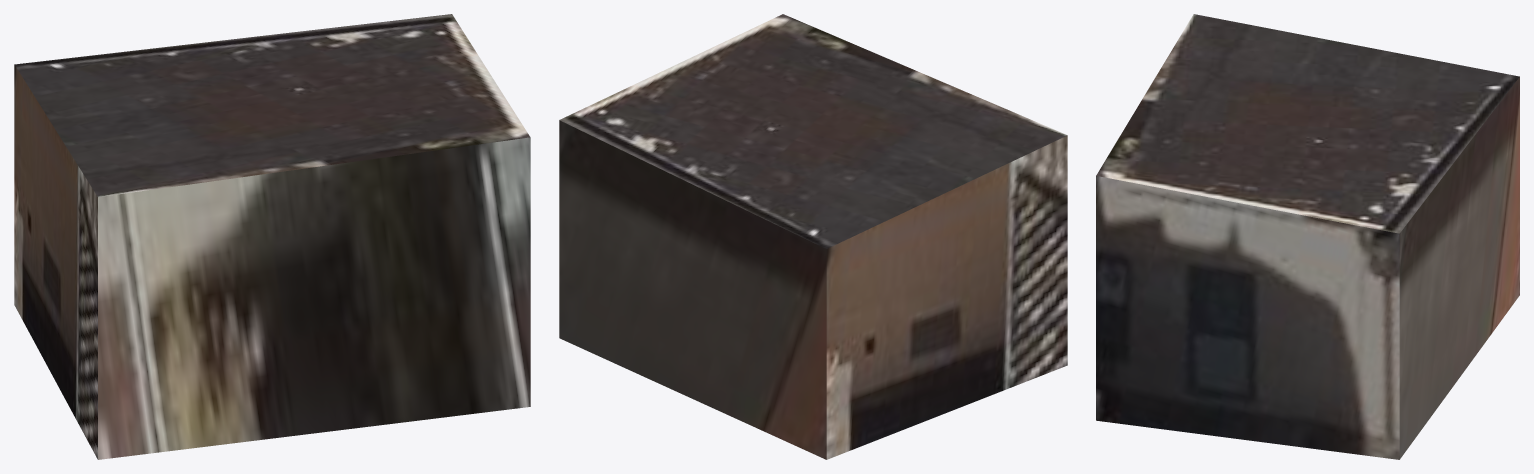
3 renders of one model, left to right at view 1: azimuth 30°, elevation 25°; view 2: azimuth 150°, elevation 25°; view 3: azimuth 270°, elevation 25°, orthographic. The views are drawn at different scales.
Parts seen in each view (by area): view 1: Z_UP; view 2: Z_UP; view 3: Z_UP.
Part boxes in pixels (x1=…): Z_UP: x1=14, y1=14, x2=530, y2=459; Z_UP: x1=559, y1=14, x2=1067, y2=459; Z_UP: x1=1096, y1=14, x2=1519, y2=459.
Bounding box in the file's own units: 6.98 × 3.85 × 6.03.
2 materials, 1 textured.
